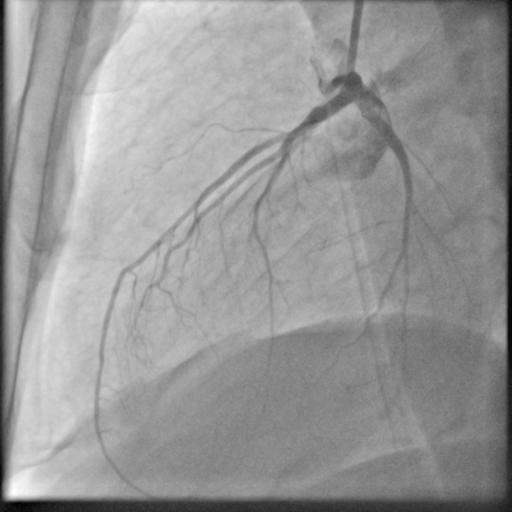Stenosis: (288, 116, 313, 136)
